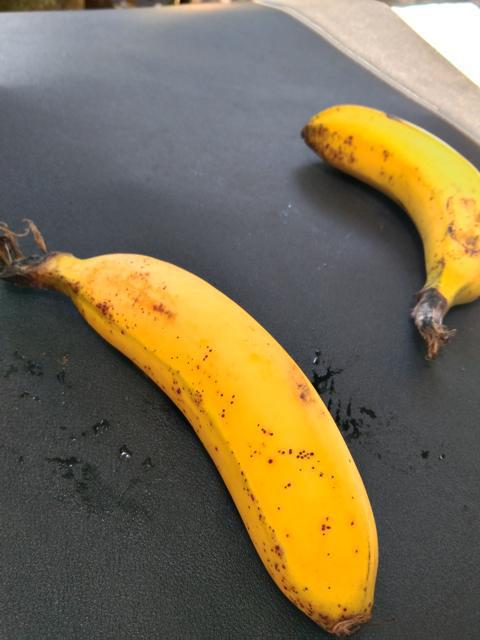ripe: (49, 228, 390, 639), (311, 87, 479, 362)
